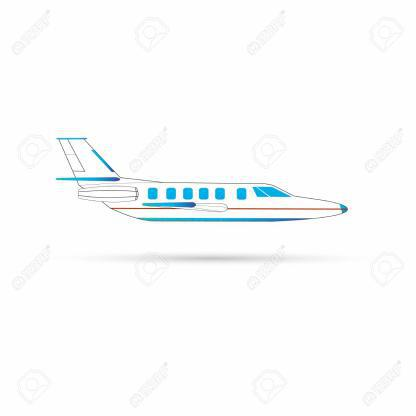CIV_Plane: (44, 132, 348, 244)
